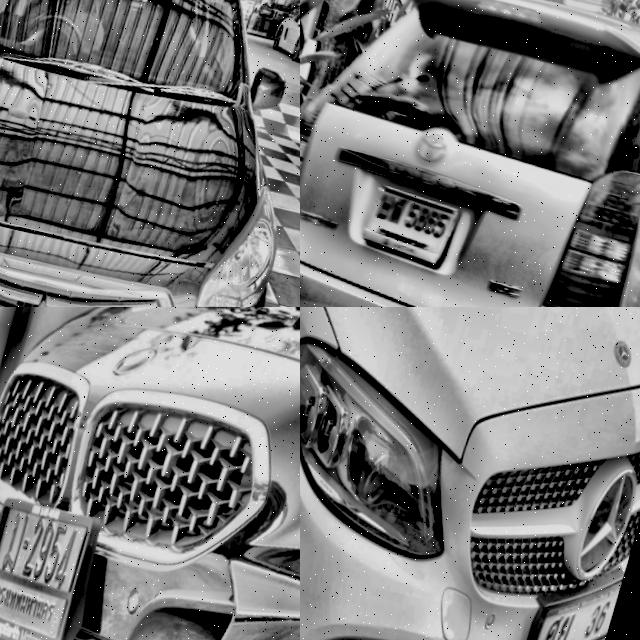license-plate: (0, 483, 122, 640), (506, 546, 632, 640), (359, 173, 471, 276)
